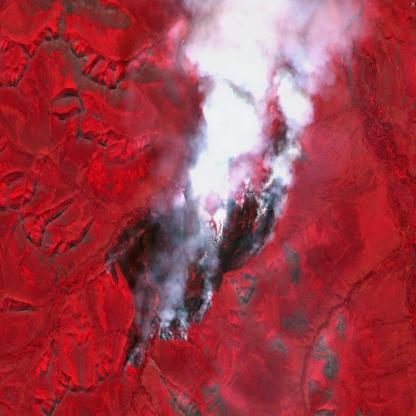fire: (101, 85, 291, 378)
